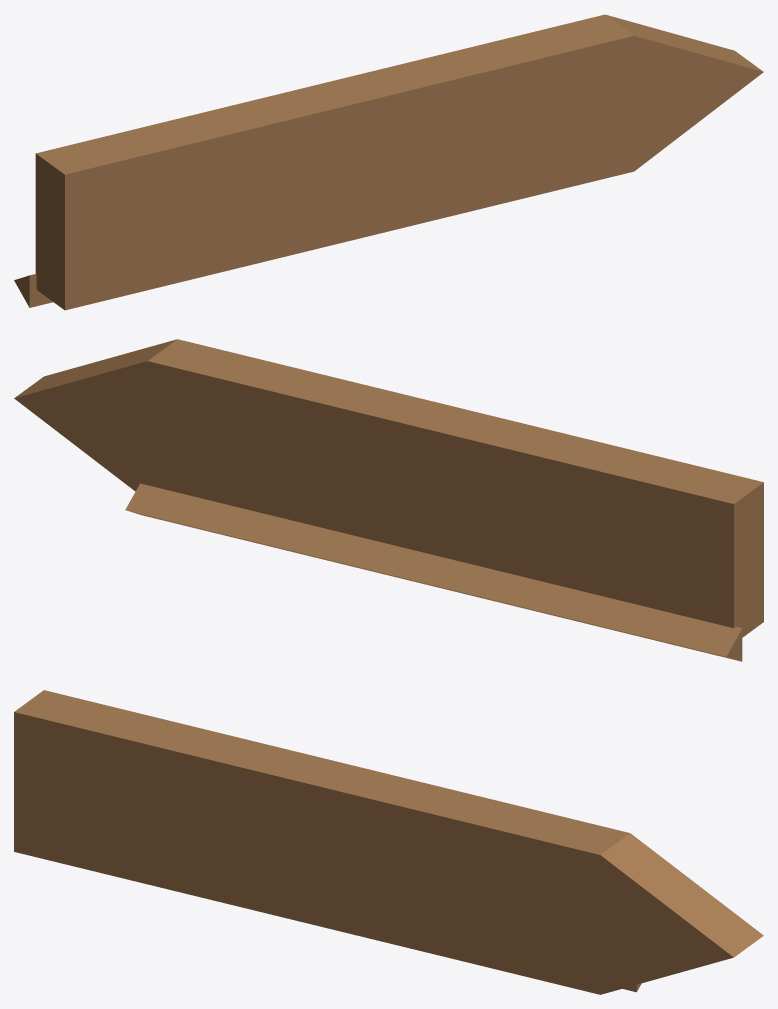
The model's file is Forest_SignPanel.fbx.
3 renders of one model, top to bottom at view 1: azimuth 30°, elevation 25°; view 2: azimuth 150°, elevation 25°; view 3: azimuth 330°, elevation 25°, orthographic. The views are drawn at different scales.
Parts seen in each view (by area): view 1: Forest_SignPanel; view 2: Forest_SignPanel; view 3: Forest_SignPanel.
Boxes of the visible parts, x1,y1,x2,y2 form: Forest_SignPanel: (14, 14, 763, 310); Forest_SignPanel: (14, 339, 763, 661); Forest_SignPanel: (14, 690, 763, 994).
Size of the model in its own units: 98 by 20.17 by 10.5.
